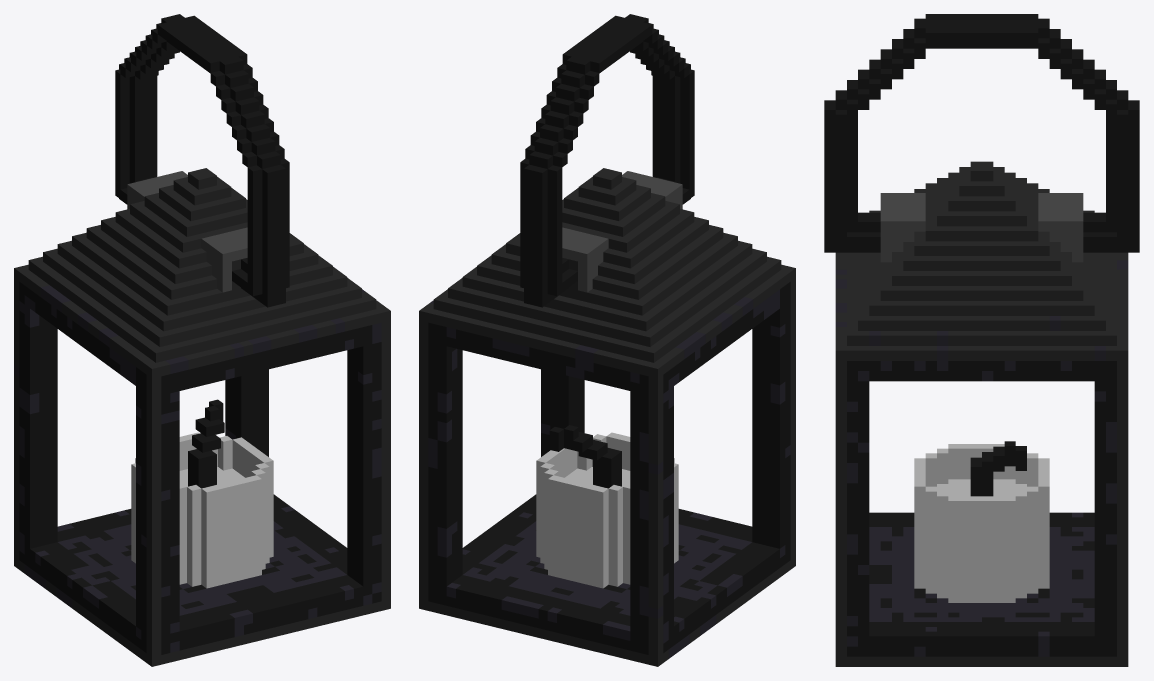
Rendered from Lantern Lamp without fire.obj.
3 renders of one model, left to right at view 1: azimuth 30°, elevation 25°; view 2: azimuth 150°, elevation 25°; view 3: azimuth 270°, elevation 25°, orthographic. The views are drawn at different scales.
Bounding box in the file's own units: 2.6 × 5.7 × 2.8.
Materials: 1 (1 with a texture image).
